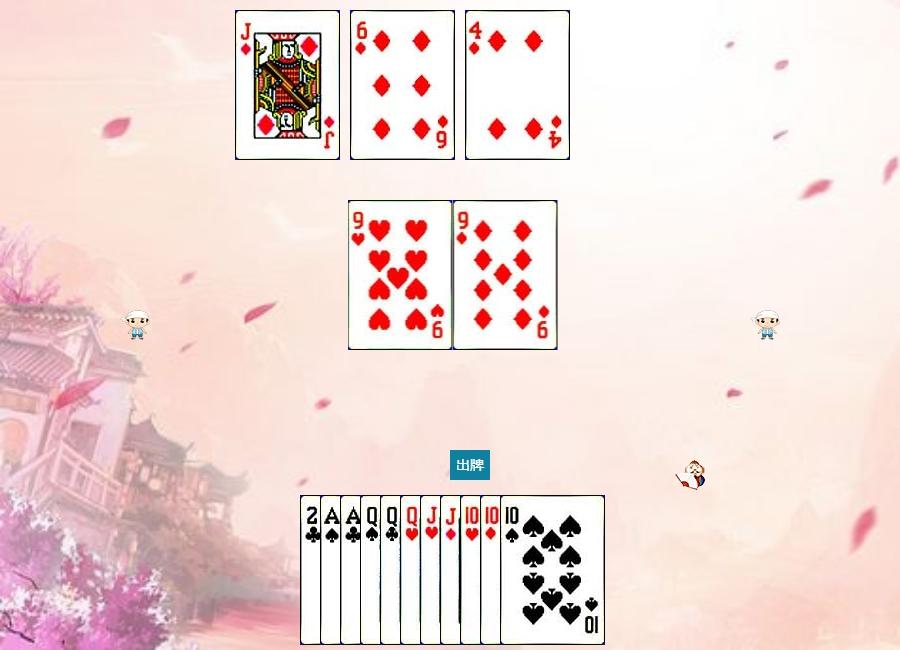10~1: (480, 495, 585, 645)
10~3: (460, 495, 565, 645)
10~4: (500, 495, 605, 645)
11~1: (235, 10, 340, 160), (440, 495, 545, 645)
11~3: (420, 495, 525, 645)
12~2: (380, 495, 485, 645)
12~3: (400, 495, 505, 645)
12~4: (360, 495, 465, 645)
14~2: (340, 495, 445, 645)
14~4: (320, 495, 425, 645)
15~2: (300, 495, 405, 645)
4~1: (465, 10, 570, 160)
6~1: (350, 10, 455, 160)
9~1: (453, 200, 558, 350)
9~3: (348, 200, 453, 350)
